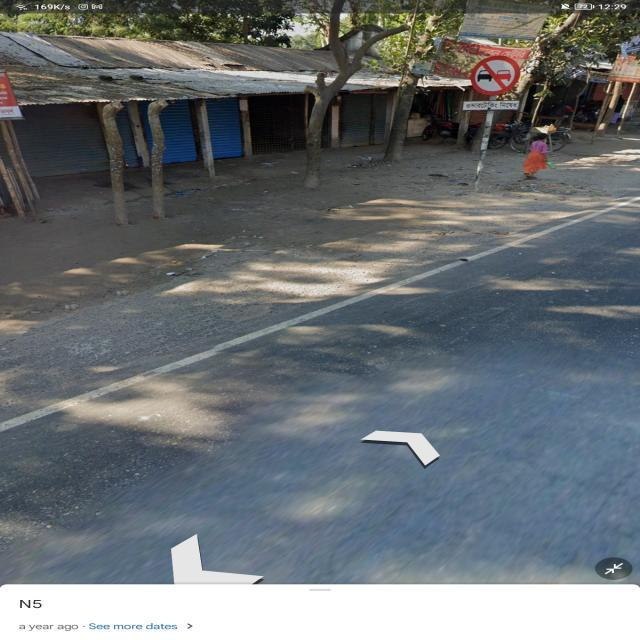Don-t-Overtracking: (461, 41, 530, 119)
